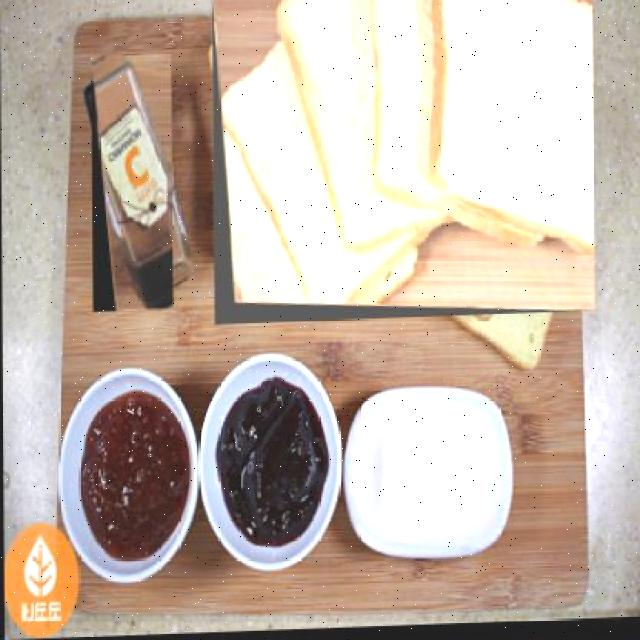Bread: (211, 0, 594, 328)
